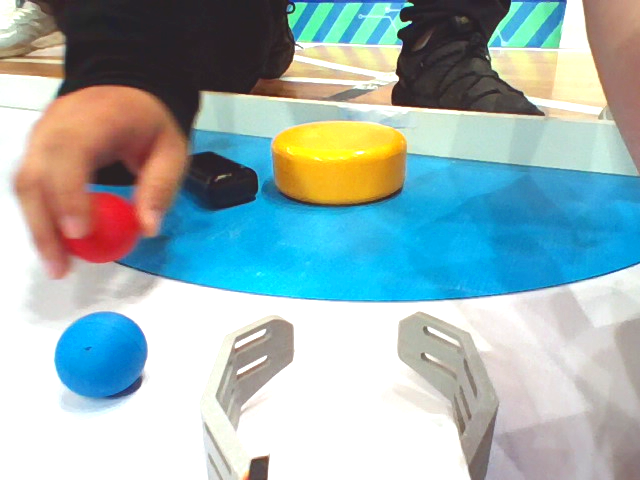black: (171, 146, 267, 218)
blue: (45, 301, 157, 397)
red: (46, 192, 154, 274)
yellow: (266, 112, 429, 205)
